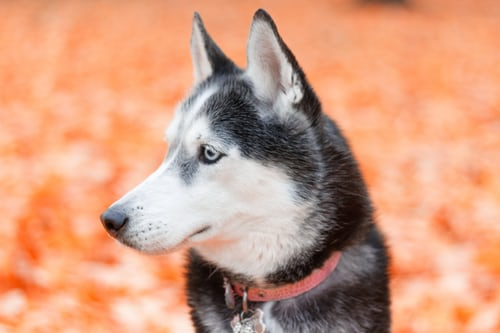husky: (79, 1, 366, 283)
